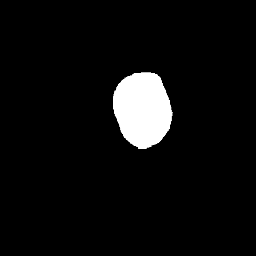mass: (115, 73, 170, 146)
